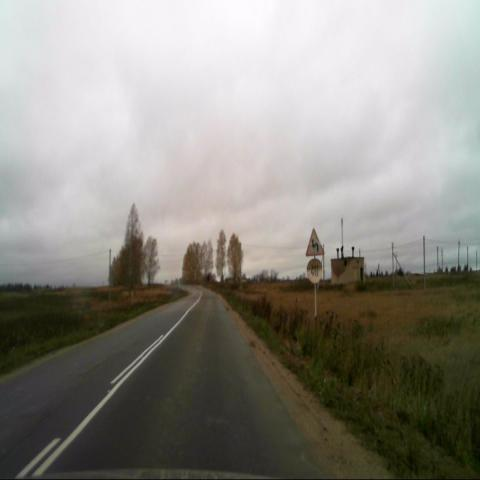1_12_2: (306, 226, 324, 257)
